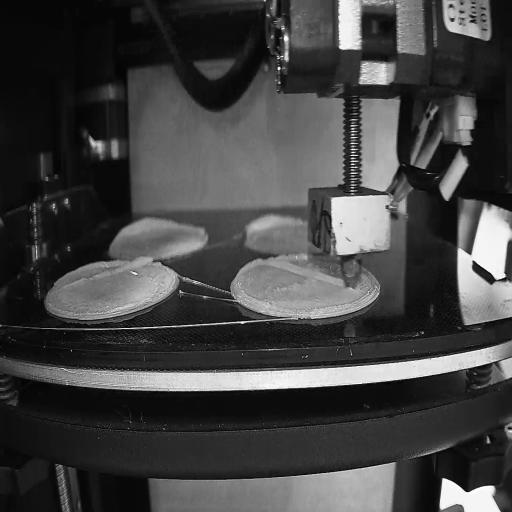over_extrusion: (63, 252, 154, 291), (113, 216, 206, 242), (267, 257, 344, 287), (242, 210, 303, 242)
